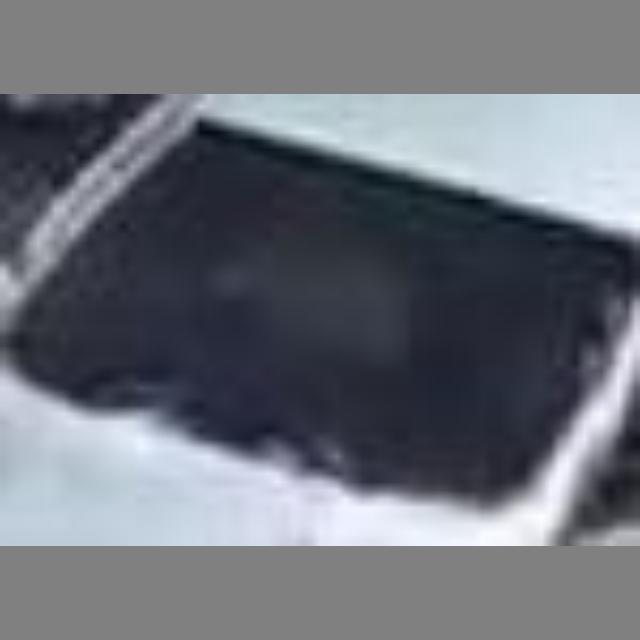tidak-pakai: (205, 179, 435, 401)
